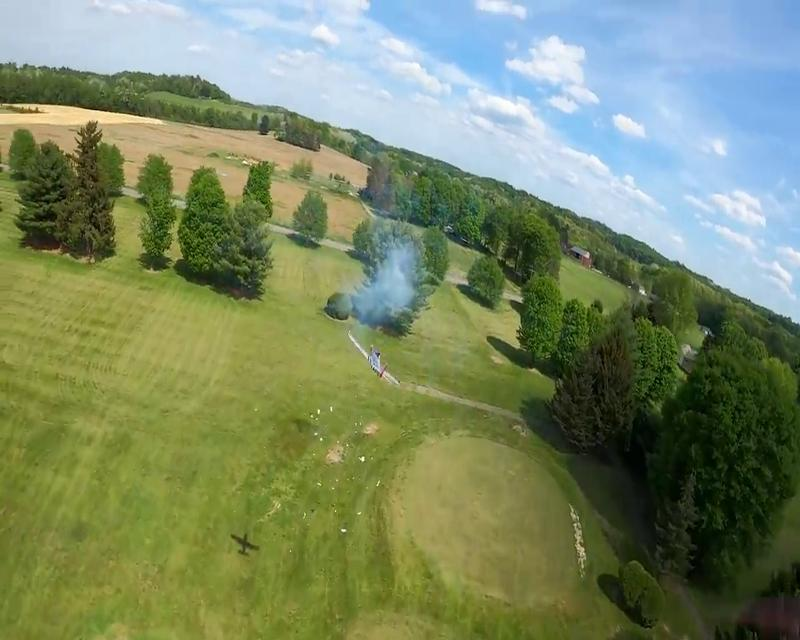UAV: (349, 332, 400, 385)
